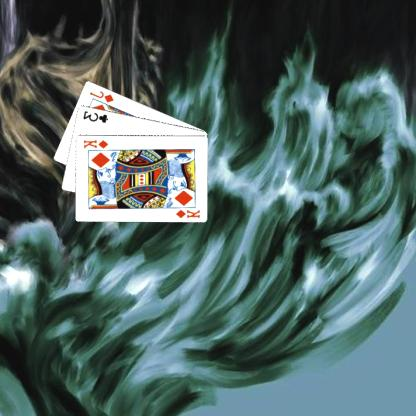3C: (82, 108, 111, 124)
JD: (89, 89, 117, 104)
KD: (82, 137, 111, 150), (174, 207, 202, 219)
